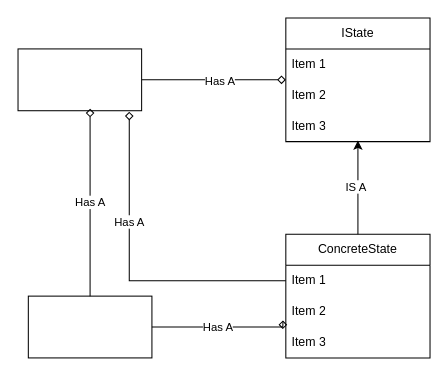
Some shapes in this 448 by 376 pixel diagram are drawn without their labels. Each missing label, with the box of its shape:
Client: (27, 295, 152, 358)
Context: (17, 48, 142, 111)
